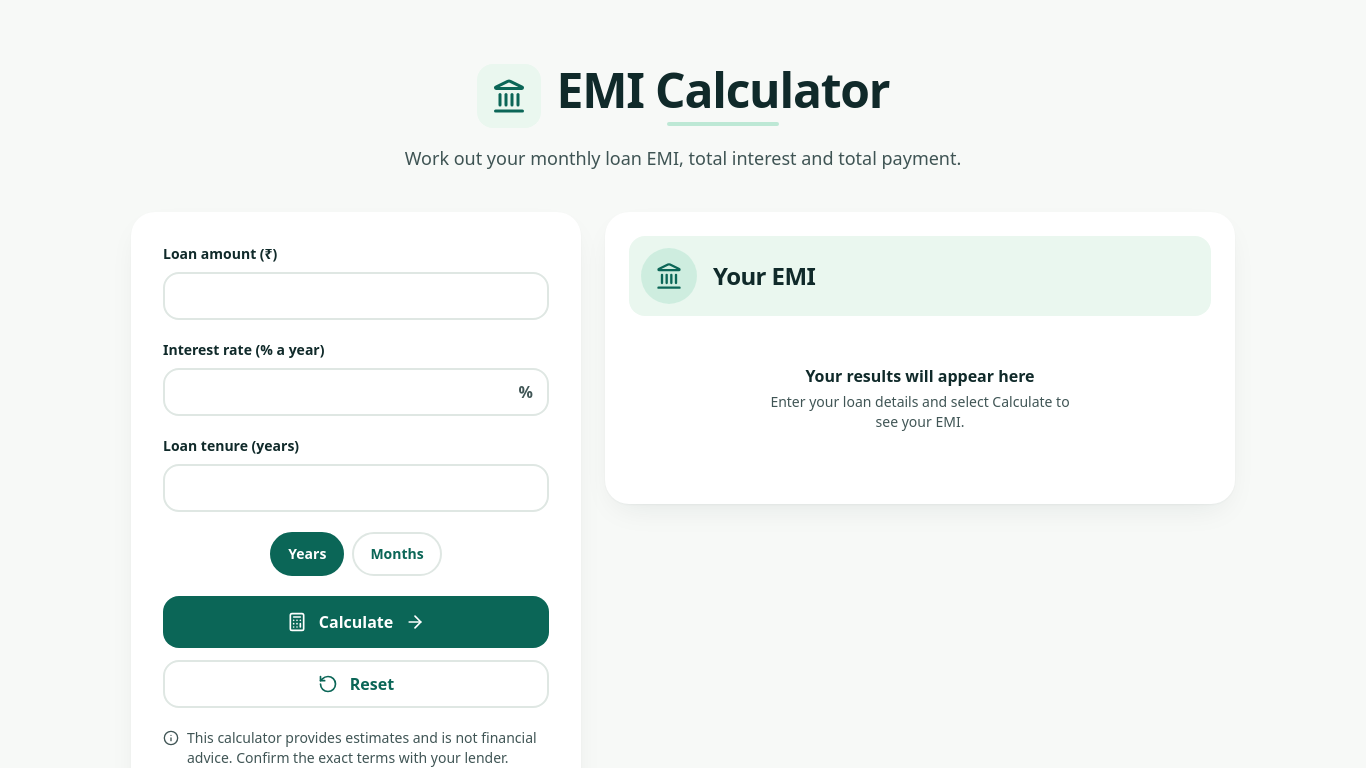
EMI Calculator › switches the tenure unit
Type "1000000" into the field labelled "Loan amount (₹)" at [356, 296], box [163, 272, 549, 320]
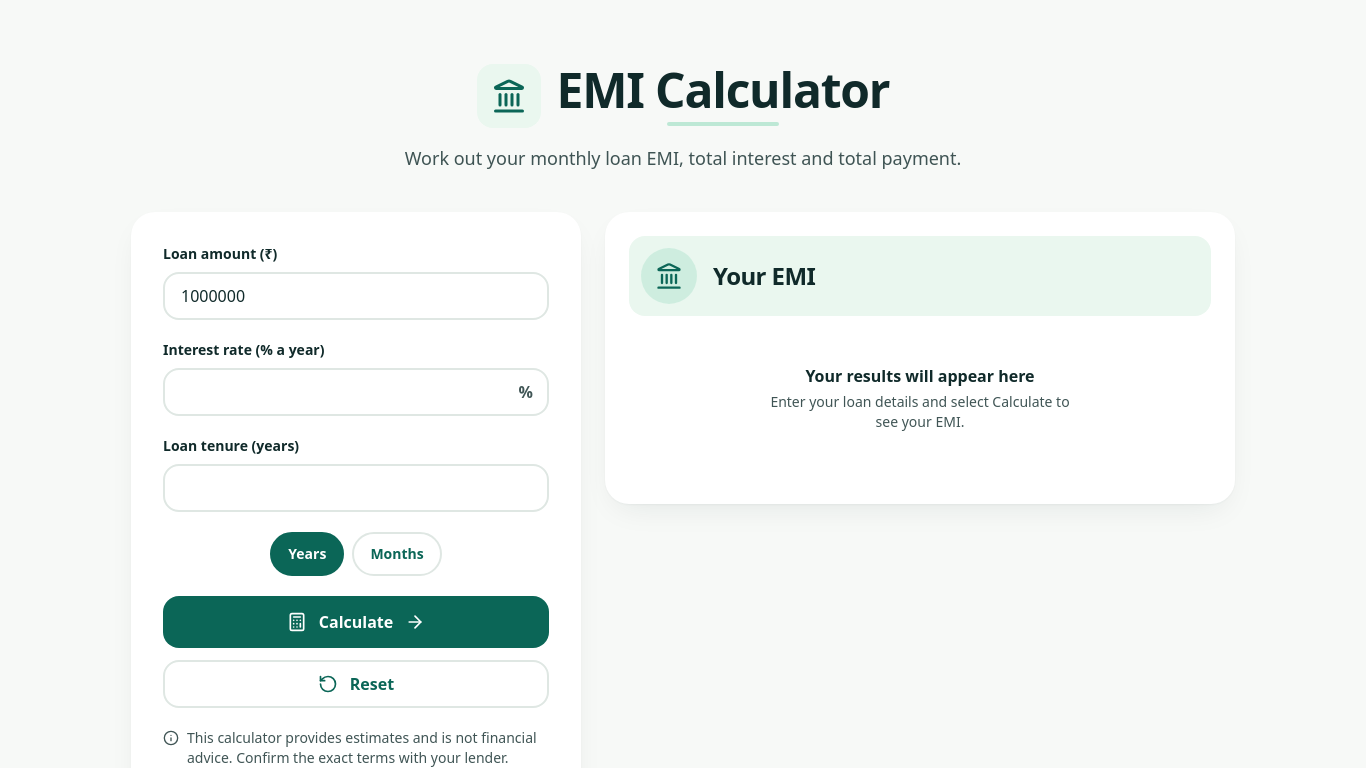
Type "8.5" into the field labelled "Interest rate (% a year)" at [356, 392], box [163, 368, 549, 416]
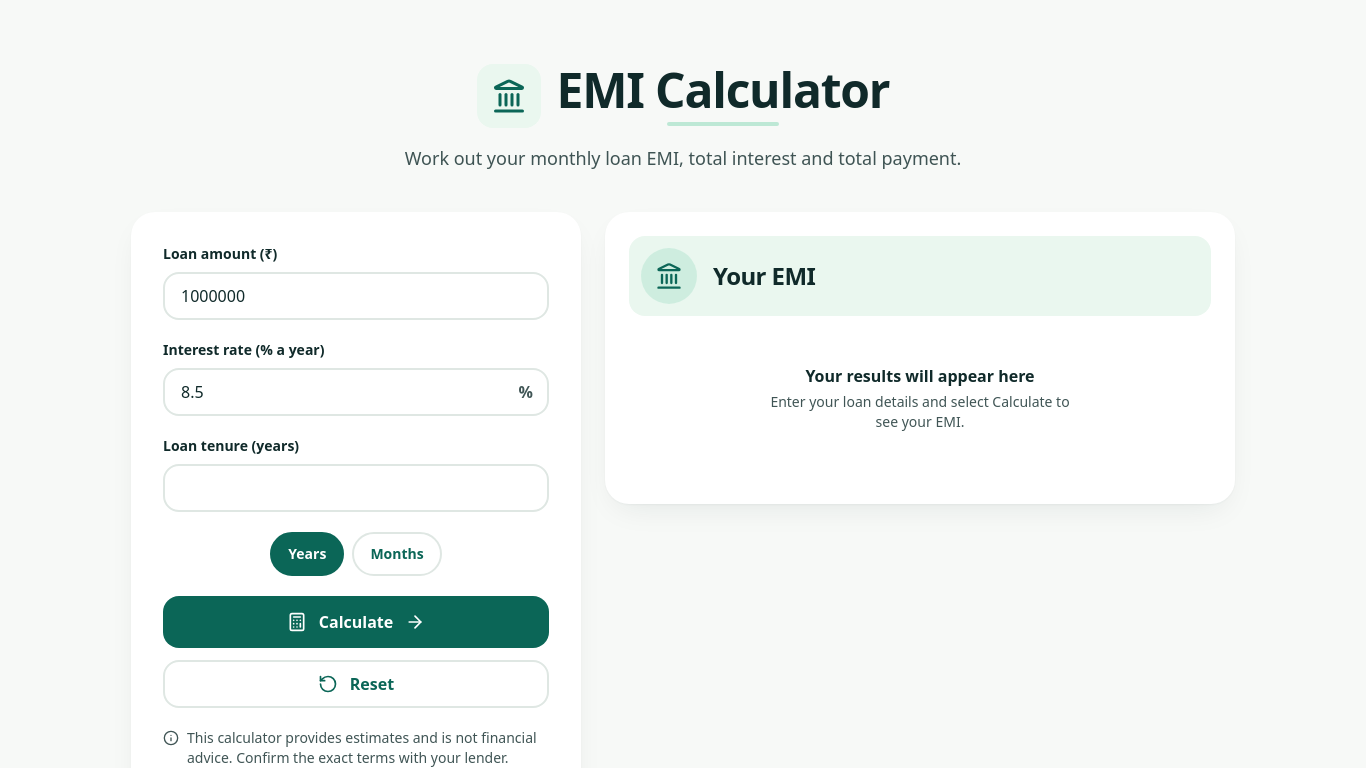
Type "20" into the field labelled "Loan tenure (years)" at [356, 488], box [163, 464, 549, 512]
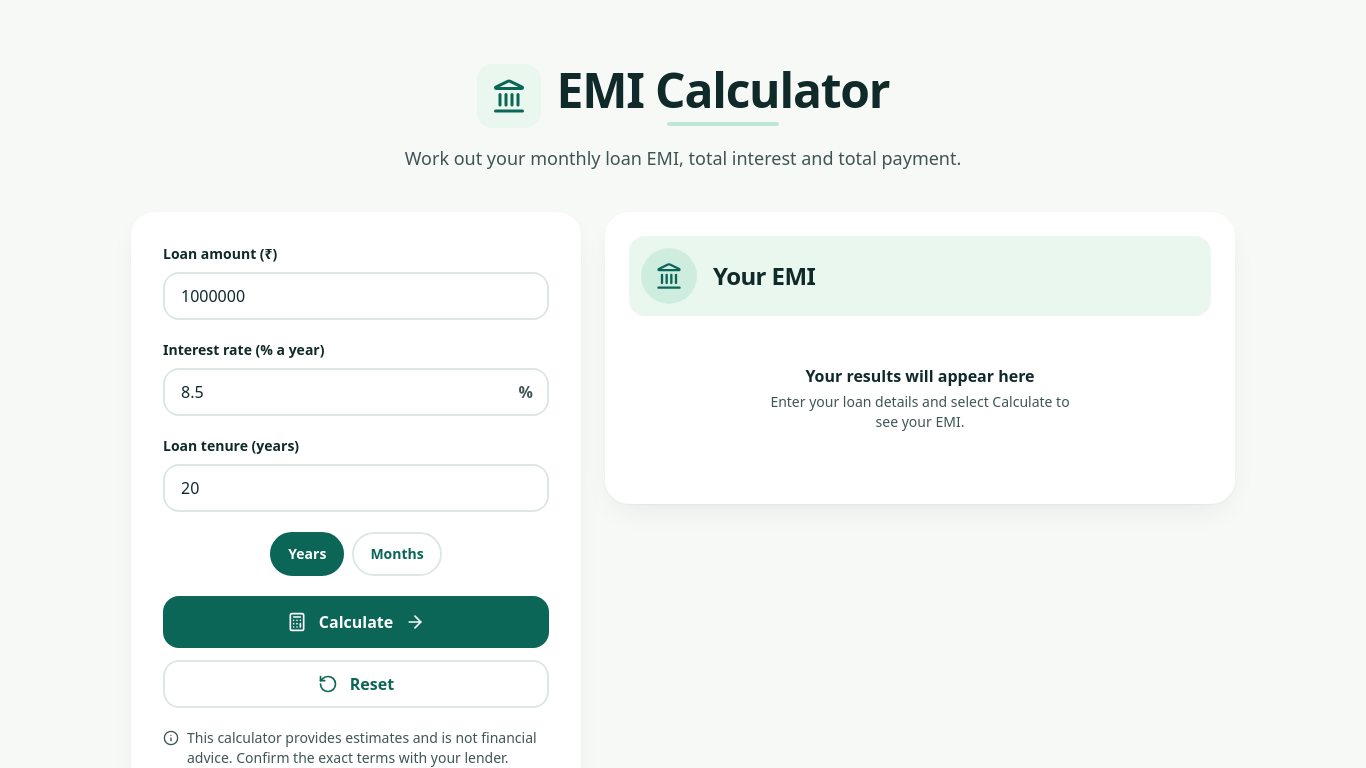
Click the button "Months" at [397, 554], box [352, 532, 442, 576]
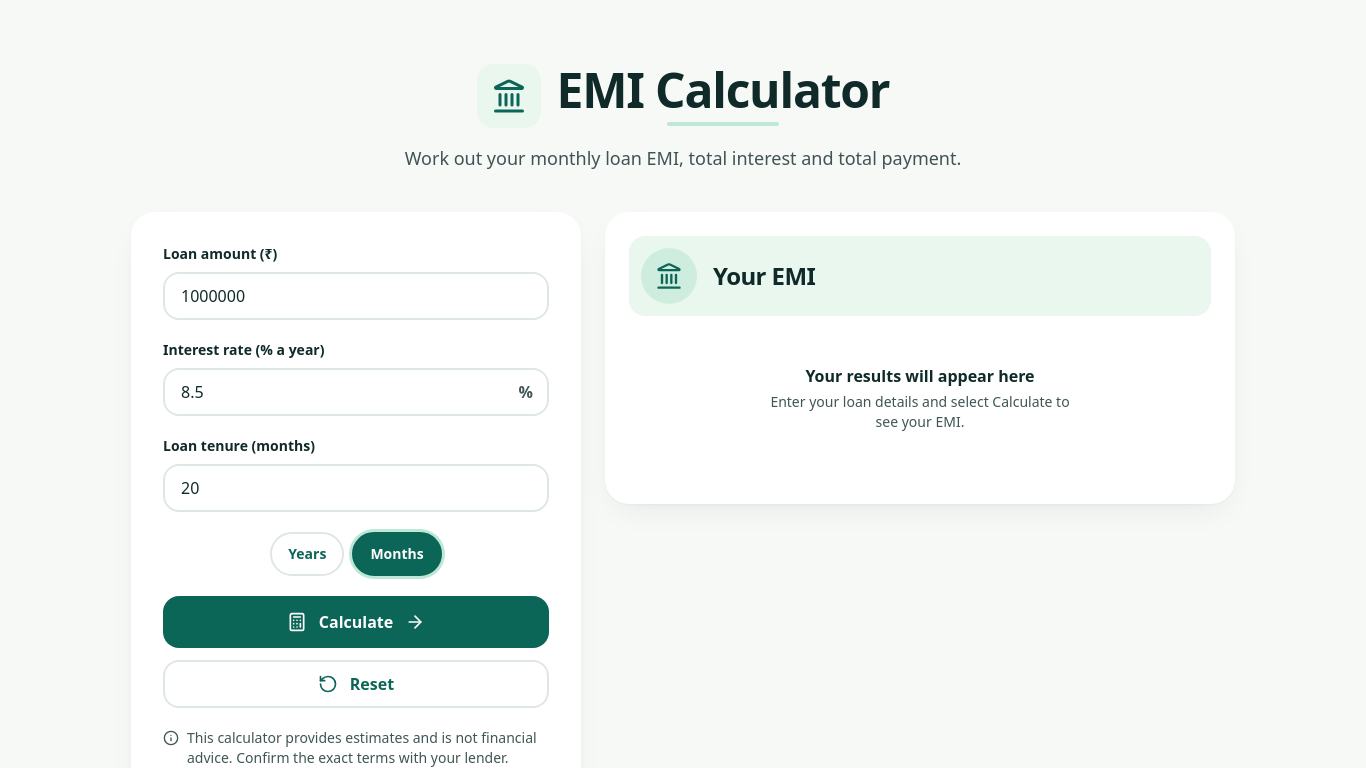
Replace the text in the field labelled "Loan tenure (months)" with "240" at [356, 488], box [163, 464, 549, 512]
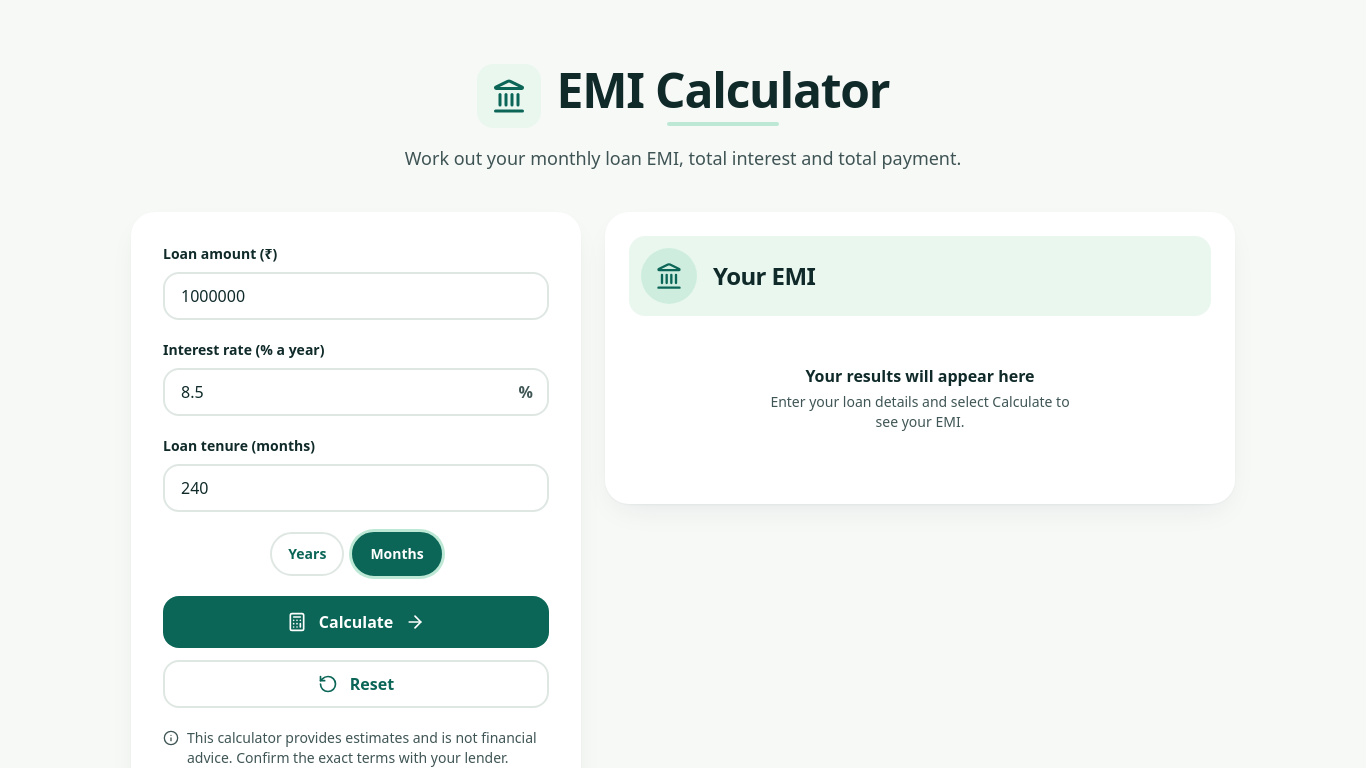
Click the button "Calculate" at [356, 622], box [163, 596, 549, 648]
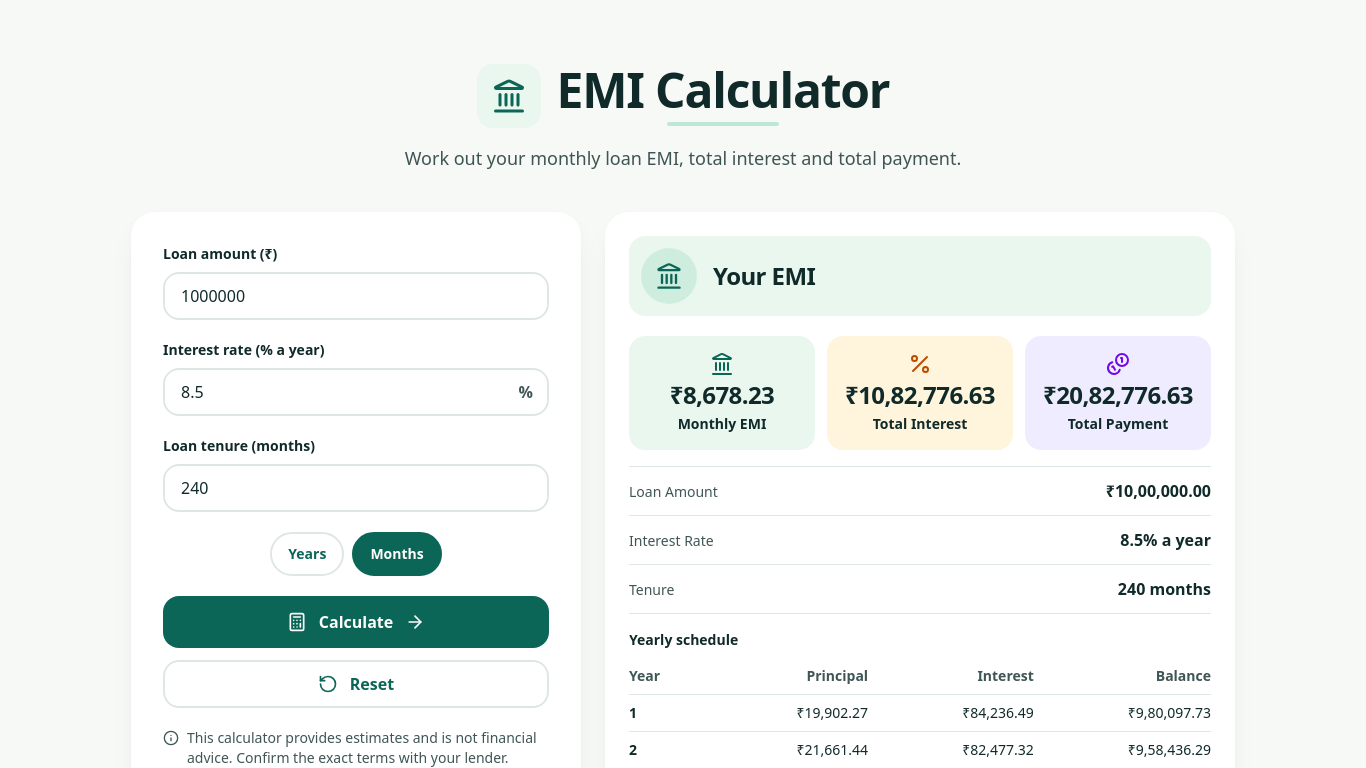
Expected: the text "₹8,678.23" is shown, [670, 378, 774, 411]
